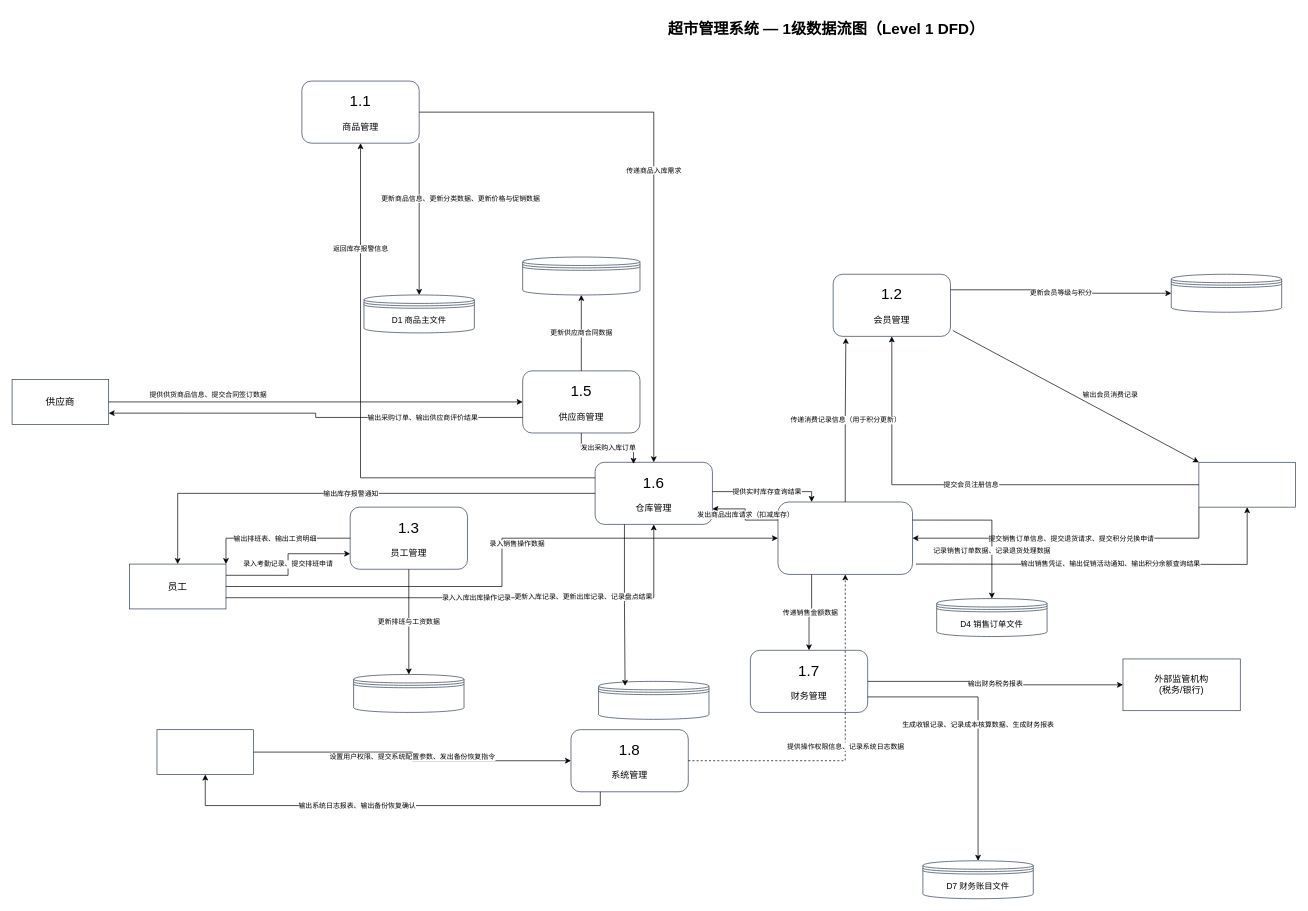
Some shapes in this 1308 by 911 pixel diagram are drawn without their labels. The shapes that lost their labels are listed below. From the top down, each one's centre as x and y in pixels, then its label:
At point 581,275: "D5 采购与供应商文件".
At point 1226,293: "D2 会员文件".
At point 1246,484: "顾客".
At point 845,537: "1.4 销售管理".
At point 408,693: "D3 员工文件".
At point 653,700: "D6 库存文件".
At point 205,752: "系统管理员".
